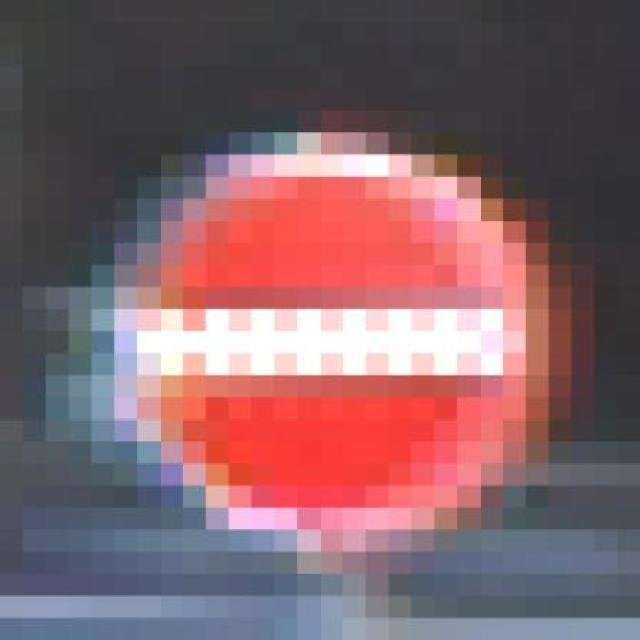B2: (108, 117, 556, 536)
